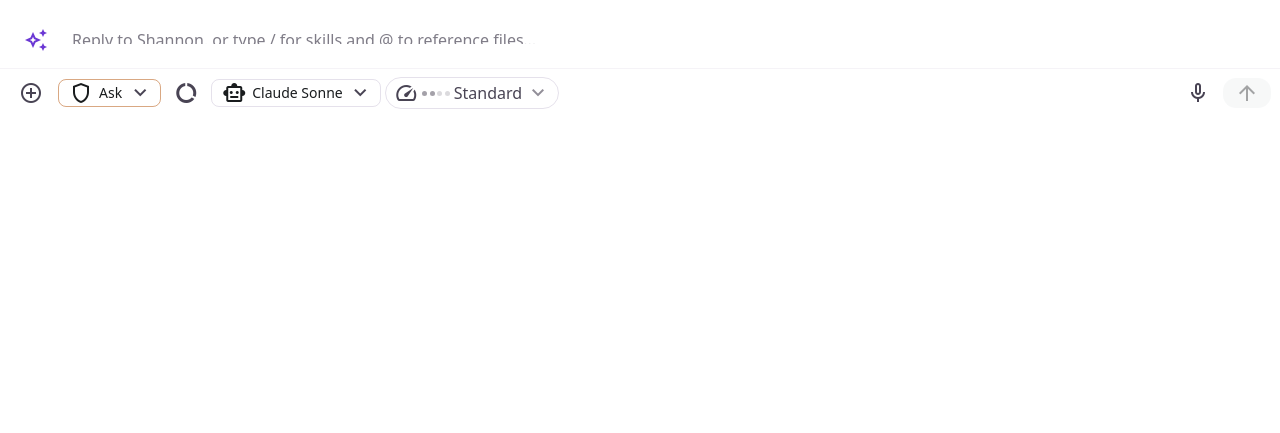
Test: ChatInput memory bypass (+ menu item, 02c D4) › toggles on from the + menu and writes through to the backend
The image size is (1280, 433).
Step 1. Click the button with test id "composer-plus-menu" → (31,92), box [8, 76, 54, 110]
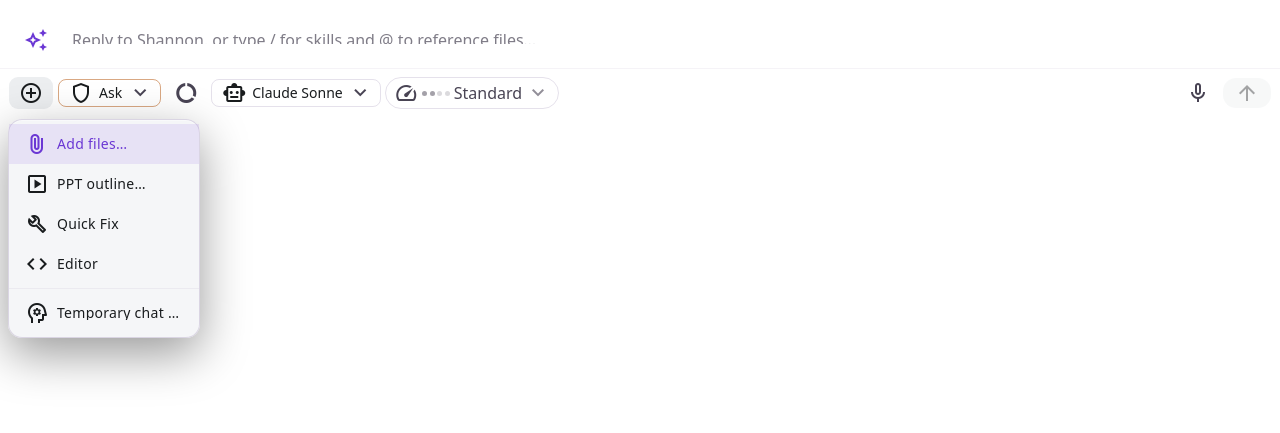
Expected: the menu item with test id "memory-bypass-toggle" reads "Temporary chat · off"
Step 2. Click the menu item with test id "memory-bypass-toggle" → (104,312), box [9, 292, 199, 332]
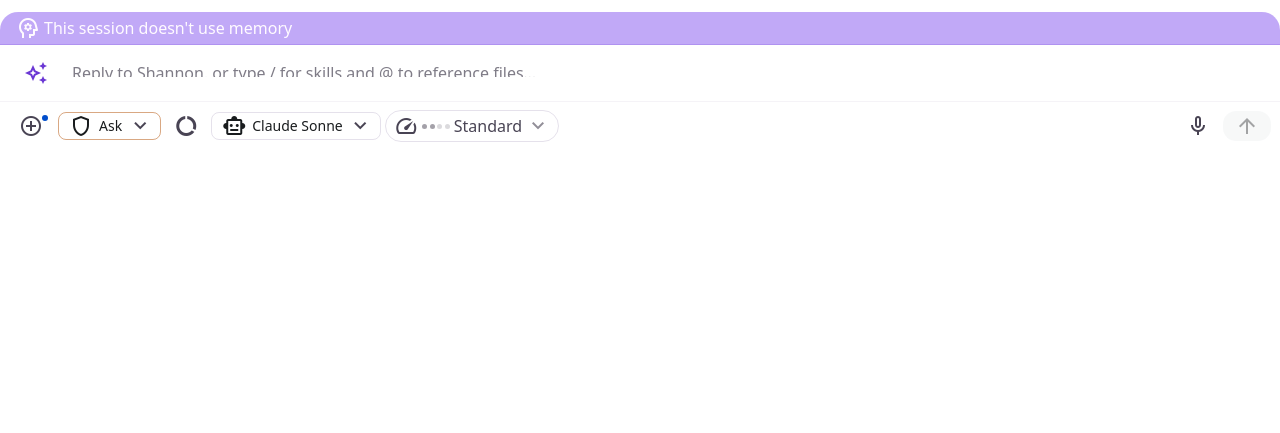
Expected: the message "This session doesn't use memory" is shown, [0, 12, 1279, 45]
Step 3. Click the button with test id "composer-plus-menu" → (31,126), box [8, 108, 54, 142]
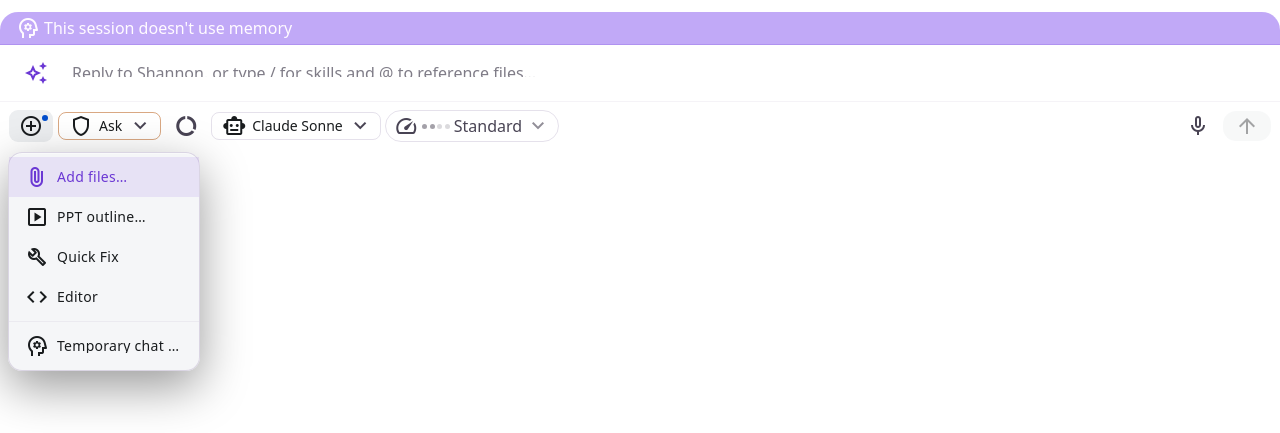
Expected: the menu item with test id "memory-bypass-toggle" shows "Temporary chat · on", [9, 326, 199, 366]
